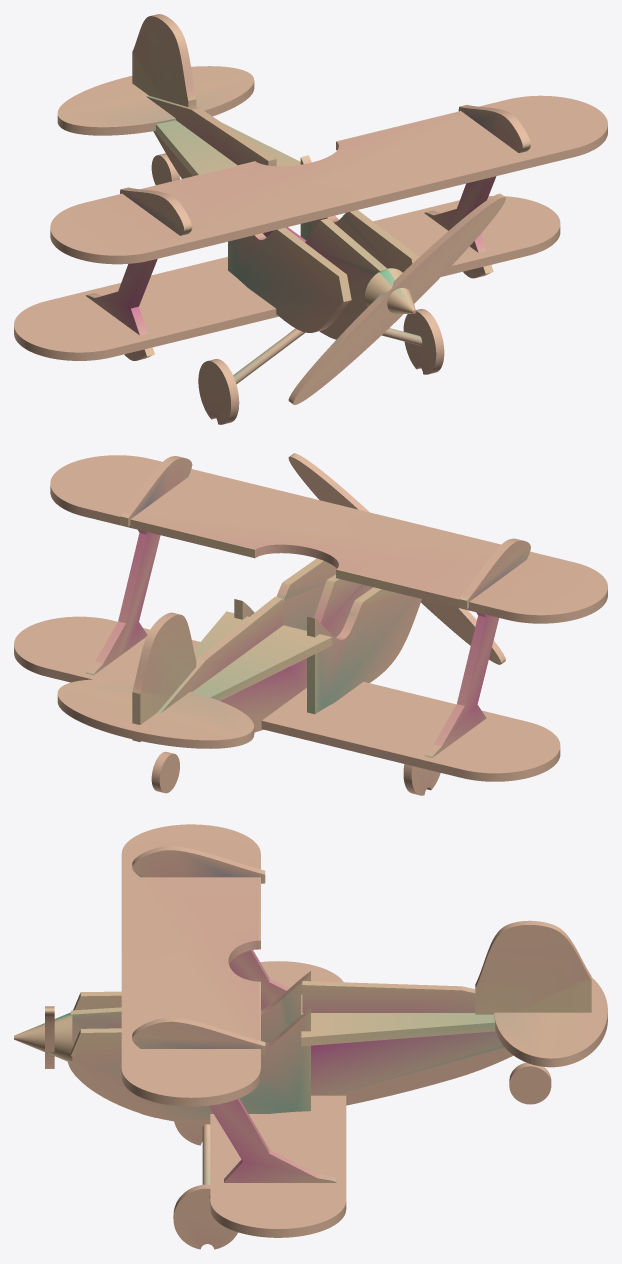
3 views of the same model, one above another, from view 1: azimuth 30°, elevation 25°; view 2: azimuth 150°, elevation 25°; view 3: azimuth 270°, elevation 25° (orthographic). The views are drawn at different scales.
Parts seen in each view (by area): view 1: upper, lower, cheek.001, tailplane, blades, keel, fin, strut.001, strut, rear_deck, cheek, wheel.001 (+4 smaller); view 2: upper, lower, tailplane, cheek.001, keel, strut, strut.001, rear_deck, fin, blades, cheek, skid (+1 smaller); view 3: upper, keel, lower, fin, cheek, strut, tailplane, rear_deck, strut.001, wheel, cheek.001, skid (+2 smaller).
Boxes of the visible parts, x1,y1,x2,y2 form: upper: [50, 95, 607, 264]; lower: [14, 196, 560, 360]; cheek.001: [228, 227, 351, 332]; tailplane: [57, 66, 254, 135]; blades: [288, 193, 505, 404]; keel: [146, 96, 387, 339]; fin: [132, 14, 196, 106]; strut.001: [86, 187, 192, 360]; strut: [424, 105, 530, 278]; rear_deck: [155, 120, 300, 176]; cheek: [300, 155, 419, 272]; wheel.001: [198, 359, 239, 424]; upper: [50, 455, 607, 623]; lower: [14, 616, 560, 781]; tailplane: [57, 679, 254, 748]; cheek.001: [307, 587, 421, 714]; keel: [157, 574, 372, 732]; strut: [86, 456, 192, 675]; strut.001: [424, 538, 530, 757]; rear_deck: [192, 611, 332, 700]; fin: [132, 612, 196, 741]; blades: [288, 453, 505, 664]; cheek: [234, 558, 336, 630]; skid: [151, 751, 179, 793]; upper: [121, 824, 260, 1106]; keel: [68, 981, 513, 1123]; lower: [210, 961, 346, 1237]; fin: [475, 920, 591, 1014]; cheek: [71, 1008, 310, 1120]; strut: [132, 1017, 336, 1199]; tailplane: [494, 977, 607, 1067]; rear_deck: [301, 994, 495, 1046]; strut.001: [132, 846, 289, 1010]; wheel: [173, 1184, 237, 1249]; cheek.001: [73, 971, 310, 1042]; skid: [509, 1062, 551, 1104].
Bounding box in the file's own units: 10 × 4.65 × 9.18.
